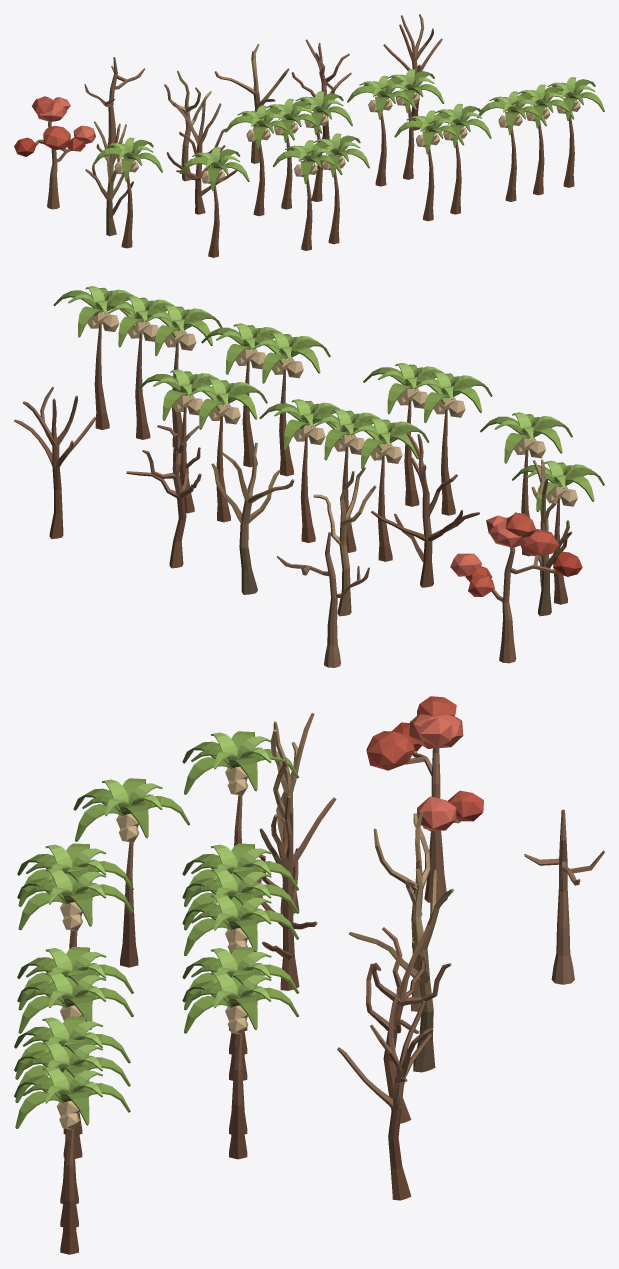
3 renders of one model, top to bottom at view 1: azimuth 30°, elevation 25°; view 2: azimuth 150°, elevation 25°; view 3: azimuth 270°, elevation 25°, orthographic. The views are drawn at different scales.
Visible parts, largest first — view 1: japan_tree_3, palm_1.029, palm_1.107, palm_1.028, palm_1.077, palm_1.074, palm_1.024, palm_1.101, palm_1.076, palm_1.075, palm_1.099, palm_1.027 (+10 smaller); view 2: japan_tree_3, palm_1.077, palm_1.024, palm_1.028, palm_1.074, palm_1.099, palm_1.026, palm_1.100, palm_1.076, palm_1.107, palm_1.029, palm_1.075 (+10 smaller); view 3: japan_tree_3, palm_1.107, palm_1.027, palm_1.099, palm_1.029, palm_1.026, naked_tree_9, palm_1.076, palm_1.075, naked_tree_5, naked_tree_8, naked_tree_7 (+10 smaller).
Part boxes in pixels (box(x1,y1,x2,y2)): japan_tree_3: box(14, 96, 95, 209); palm_1.029: box(93, 137, 162, 248); palm_1.107: box(179, 147, 249, 257); palm_1.028: box(347, 75, 416, 186); palm_1.077: box(272, 140, 342, 250); palm_1.074: box(394, 110, 464, 221); palm_1.024: box(225, 105, 294, 216); palm_1.101: box(477, 91, 546, 201); palm_1.076: box(301, 133, 369, 244); palm_1.075: box(422, 103, 491, 214); palm_1.099: box(544, 77, 604, 187); palm_1.027: box(375, 69, 444, 179); japan_tree_3: box(450, 513, 582, 663); palm_1.077: box(405, 371, 492, 515); palm_1.024: box(342, 418, 429, 561); palm_1.028: box(180, 378, 267, 522); palm_1.074: box(243, 332, 330, 476); palm_1.099: box(53, 286, 135, 429); palm_1.026: box(259, 399, 341, 542); palm_1.100: box(94, 296, 176, 439); palm_1.076: box(363, 363, 445, 506); palm_1.107: box(480, 412, 572, 556); palm_1.029: box(512, 460, 604, 604); palm_1.075: box(201, 323, 283, 467); japan_tree_3: box(366, 696, 483, 903); palm_1.107: box(73, 778, 189, 967); palm_1.027: box(182, 970, 298, 1159); palm_1.099: box(14, 1065, 130, 1254); palm_1.029: box(182, 731, 298, 845); palm_1.026: box(182, 892, 298, 1080); naked_tree_9: box(337, 995, 433, 1200); palm_1.076: box(17, 866, 133, 947); palm_1.075: box(17, 970, 133, 1158); naked_tree_5: box(257, 796, 336, 990); naked_tree_8: box(366, 925, 451, 1123); naked_tree_7: box(349, 868, 453, 1072).
Size of the model in its own units: 31.02 by 6.91 by 18.68.
Materials: 15 (15 with a texture image).
